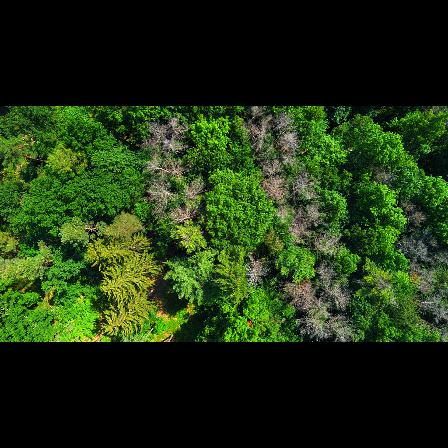Dead: (389, 232, 431, 266), (148, 121, 190, 154), (238, 248, 268, 292), (297, 315, 346, 341), (150, 155, 195, 183), (319, 265, 347, 310), (281, 281, 317, 311), (414, 290, 447, 320), (245, 112, 272, 148), (291, 204, 332, 226), (290, 170, 318, 201), (163, 203, 202, 224), (315, 233, 343, 262), (284, 222, 314, 248), (262, 176, 288, 204), (374, 164, 399, 187), (278, 131, 300, 156), (148, 186, 175, 203), (182, 182, 206, 200), (261, 158, 282, 175), (410, 211, 427, 230), (275, 116, 294, 133), (399, 199, 418, 214)
